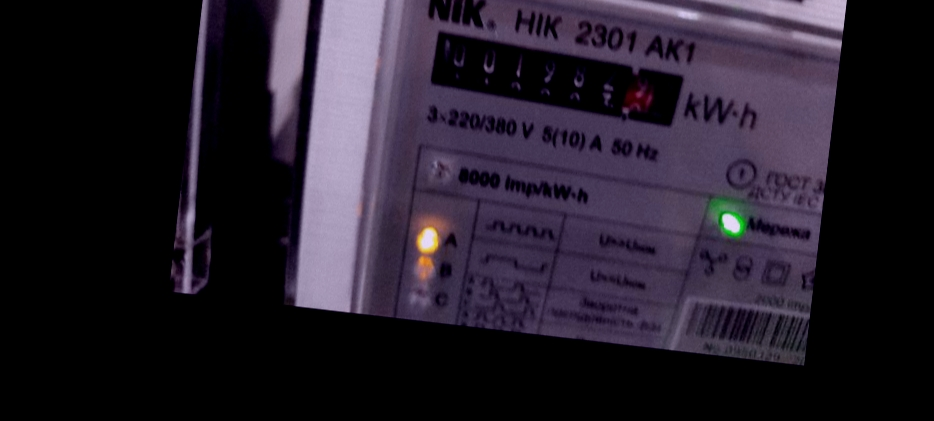0: (451, 40, 471, 71), (481, 46, 501, 77)
1: (512, 50, 528, 80)
2: (602, 63, 623, 94)
8: (572, 61, 591, 91)
9: (632, 73, 655, 103), (541, 56, 559, 87)
screen: (412, 16, 702, 144)
